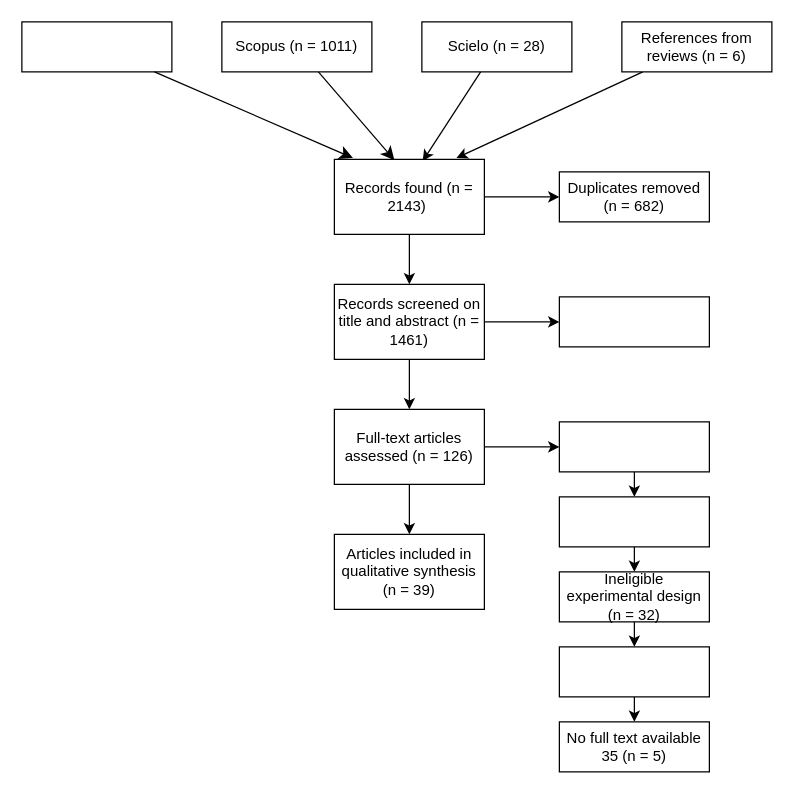
This 794x794 diagram has some shape labels left out. The shapes that lost their labels are listed below. From the top down, each one's centre as x and y in pixels, then its label:
pixel 96 46: Web of Science (n = 1098)
pixel 633 321: Records excluded (n = 1335)
pixel 633 446: Articles excluded with reasons (n = 87)
pixel 633 521: Essential data missing (n = 44)
pixel 633 671: Duplicated data from same source (n = 6)
